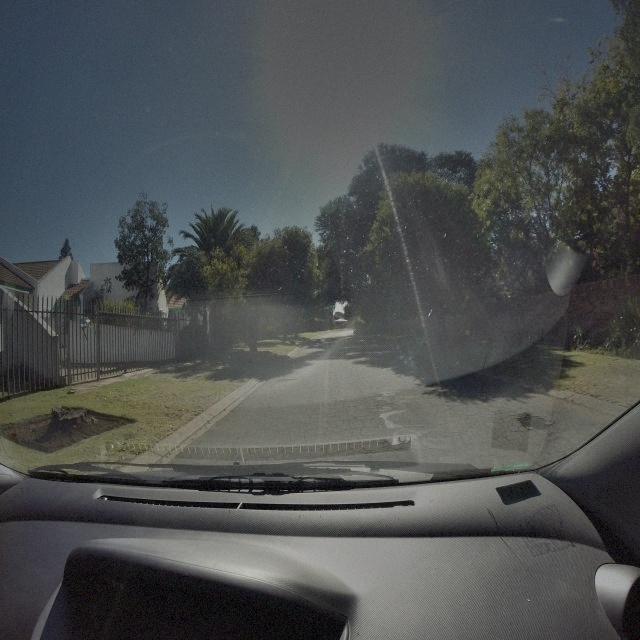pothole: (516, 410, 550, 432), (278, 377, 296, 383)
